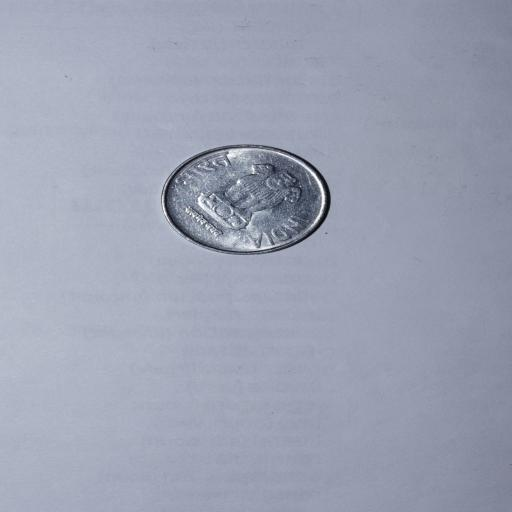rupee1: (158, 144, 334, 258)
